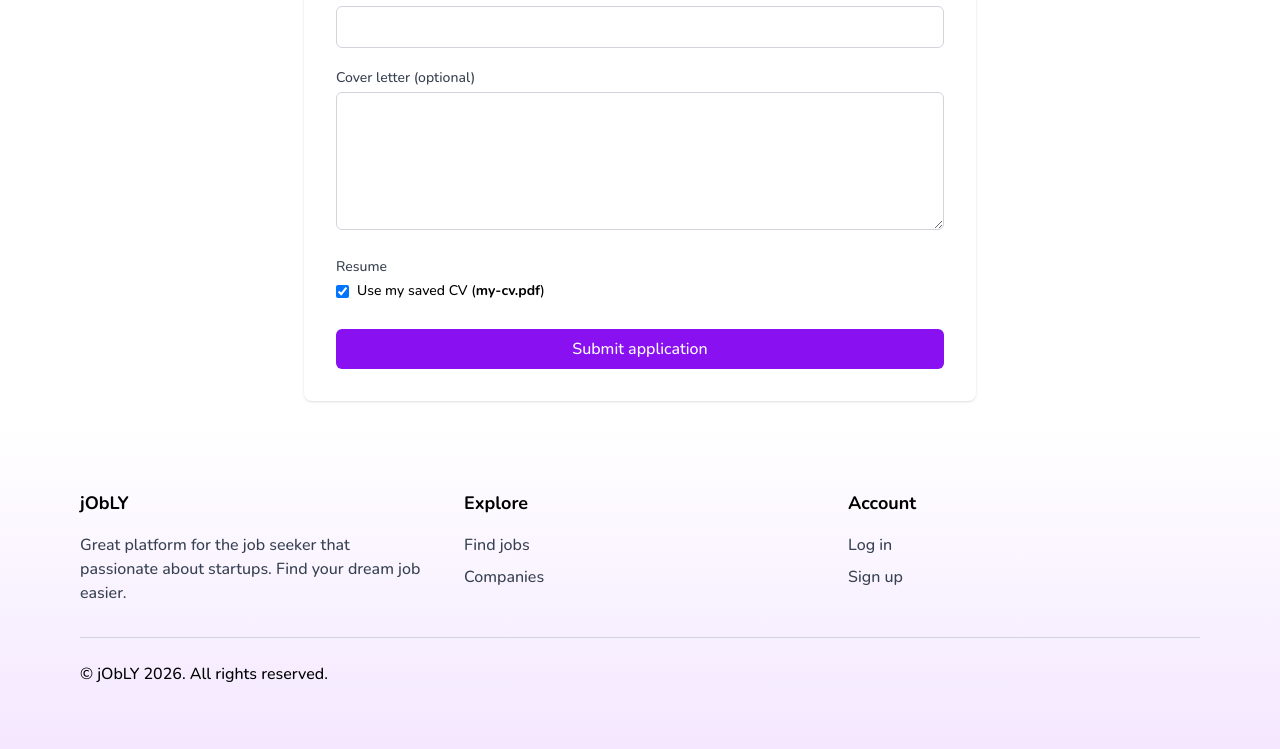
Scenario: ApplyPage › applies with the saved CV, with no file upload needed
(page scrolled)
Expected: the text "my-cv.pdf" is shown, [476,281,540,300]
Click the button "Submit application": point(640, 349) [336,329,944,369]
(page scrolled)
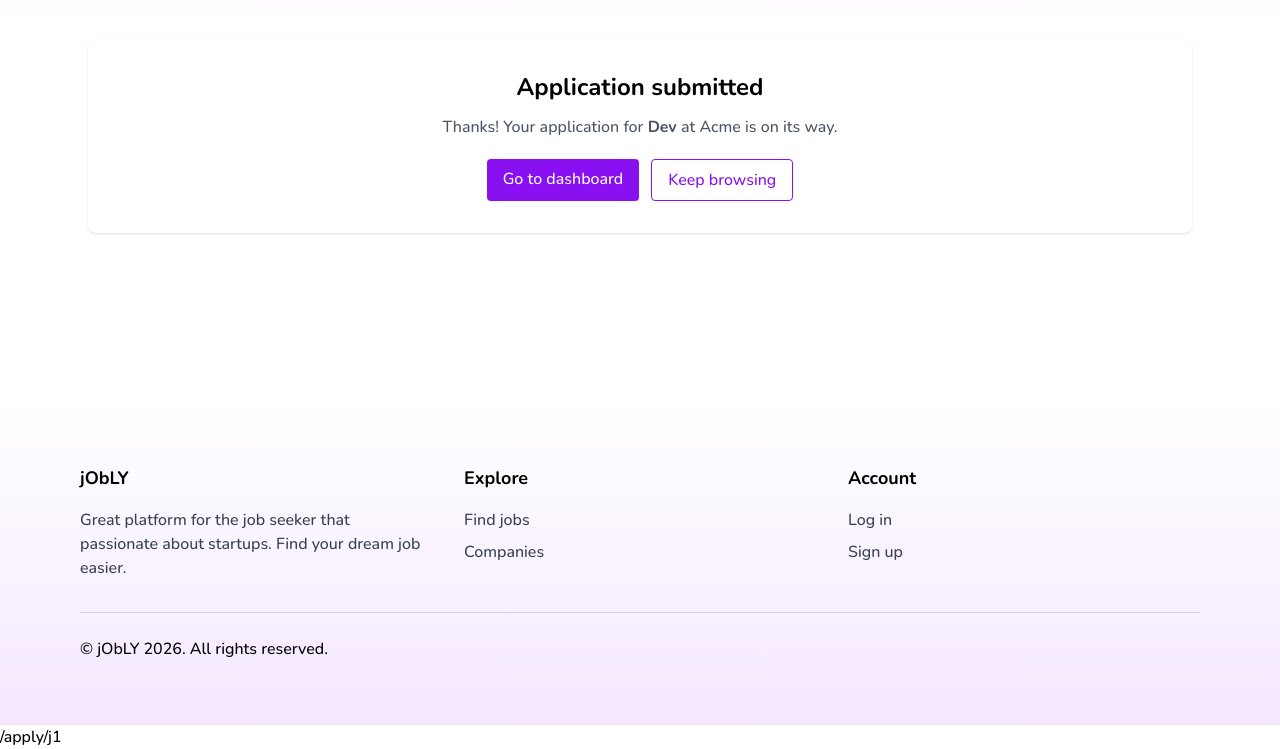
Now the heading "Application submitted" is shown, box [516,71,764,103]
